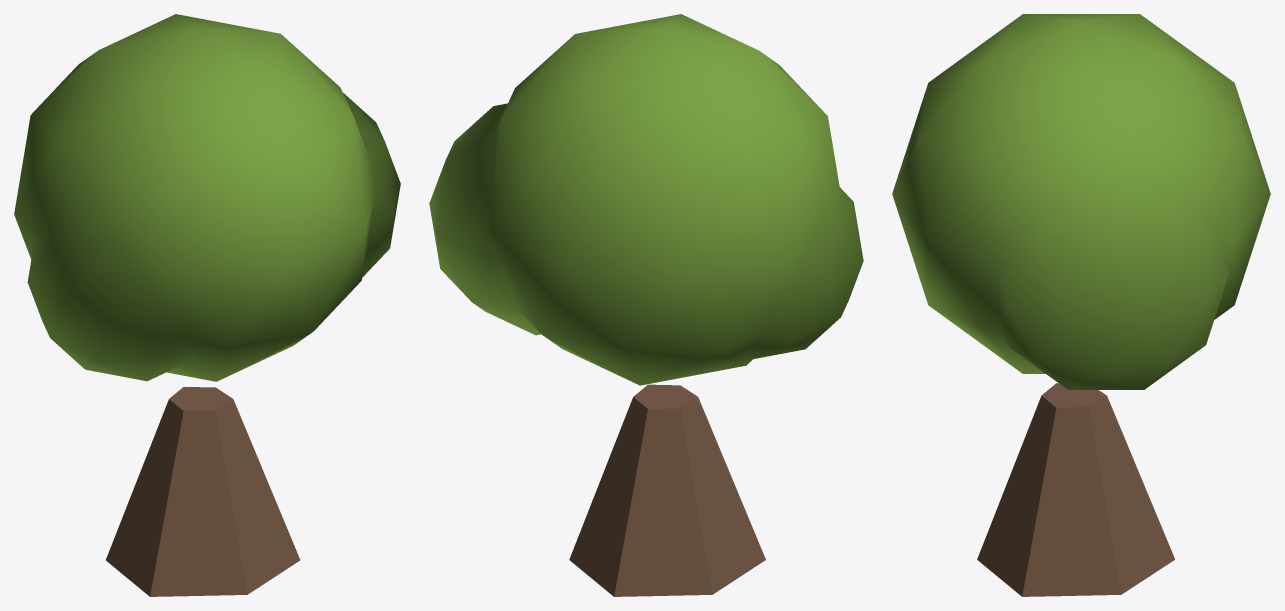
File: tree_b.glb
The picture shows the model from 3 angles, left to right: view 1: azimuth 30°, elevation 25°; view 2: azimuth 150°, elevation 25°; view 3: azimuth 270°, elevation 25°; orthographic projection.
Visible parts, largest first — view 1: Canopy, Trunk; view 2: Canopy, Trunk; view 3: Canopy, Trunk.
Part boxes in pixels (left/top/right/bottom): Canopy: left=14, top=14, right=400, bottom=381; Trunk: left=106, top=386, right=300, bottom=596; Canopy: left=429, top=14, right=863, bottom=385; Trunk: left=569, top=384, right=765, bottom=596; Canopy: left=892, top=14, right=1270, bottom=389; Trunk: left=977, top=383, right=1174, bottom=596.
Bounding box in the file's own units: 2.61 × 3.6 × 2.3.
